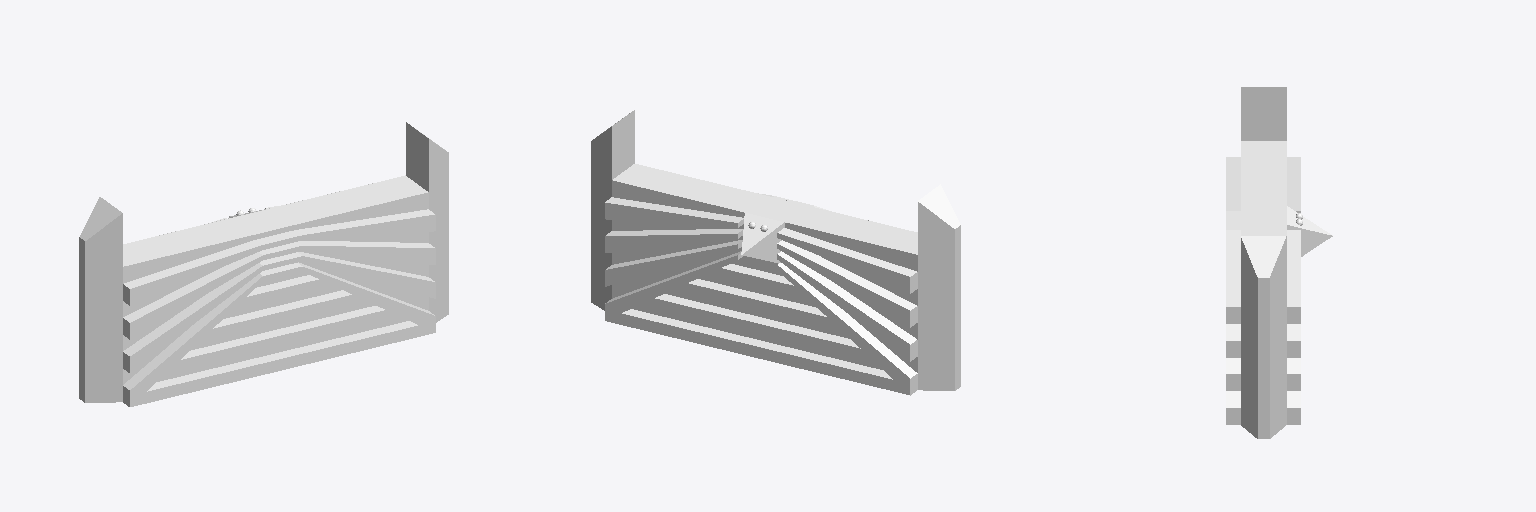
Rendered from generic_object_electricwall.obj.
3 renders of one model, left to right at view 1: azimuth 30°, elevation 25°; view 2: azimuth 150°, elevation 25°; view 3: azimuth 270°, elevation 25°, orthographic.
Parts seen in each view (by area): view 1: Cube; view 2: Cube; view 3: Cube.
Part boxes in pixels (x1,y1,x2,y2): Cube: (79,122,448,406); Cube: (591,110,960,395); Cube: (1226,87,1318,438).
Size of the model in its own units: 18.26 by 9.08 by 4.66.